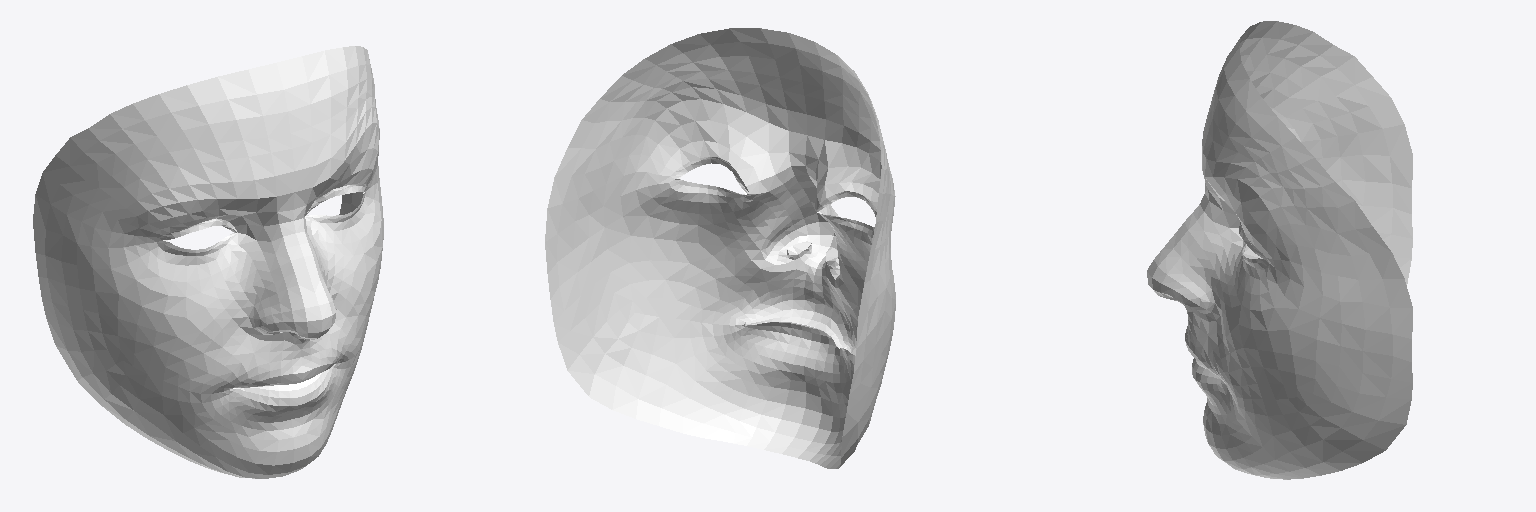
The model's file is browOuterUp_L.obj.
3 views of the same model, side by side, from view 1: azimuth 30°, elevation 25°; view 2: azimuth 150°, elevation 25°; view 3: azimuth 270°, elevation 25° (orthographic).
Visible parts, largest first — view 1: default; view 2: default; view 3: default.
Part boxes in pixels (left/top/right/bottom): default: left=33, top=46, right=383, bottom=478; default: left=545, top=28, right=895, bottom=468; default: left=1147, top=21, right=1412, bottom=479.
Size of the model in its own units: 0.1447 by 0.182 by 0.1055.